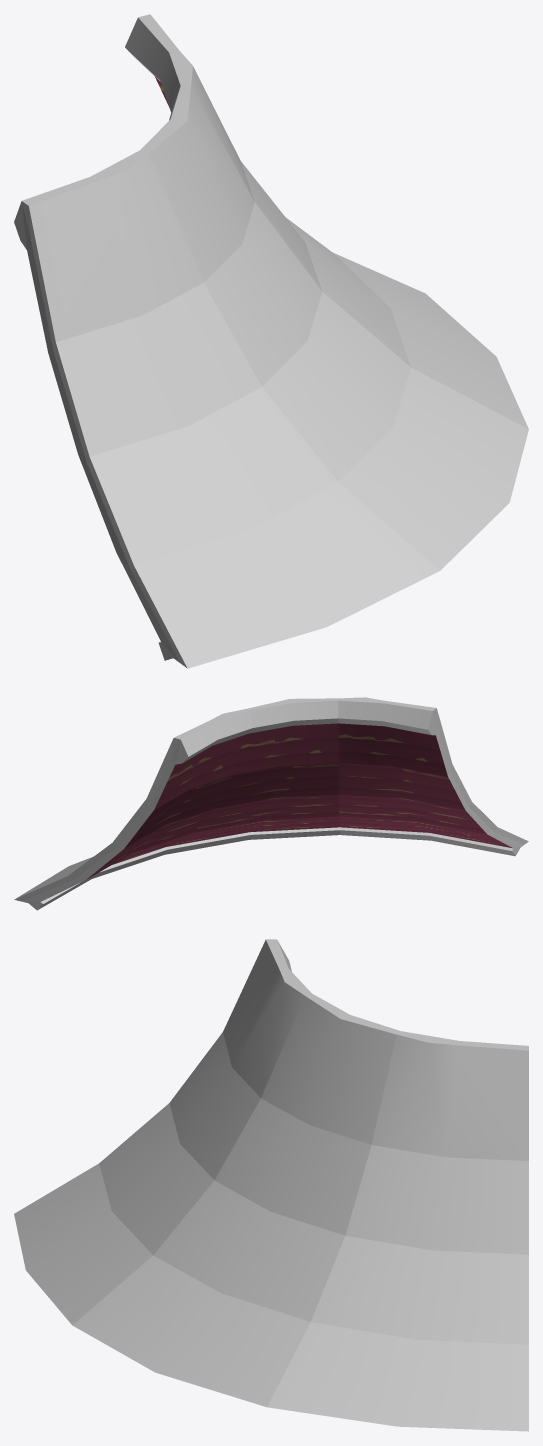
Rendered from SM_Bld_Roof_Concave_Corner_Out_03.fbx.
3 views of the same model, one above another, from view 1: azimuth 30°, elevation 25°; view 2: azimuth 150°, elevation 25°; view 3: azimuth 270°, elevation 25° (orthographic). The views are drawn at different scales.
Parts seen in each view (by area): view 1: SM_Bld_Roof_Concave_Corner_Out_03; view 2: SM_Bld_Roof_Concave_Corner_Out_03; view 3: SM_Bld_Roof_Concave_Corner_Out_03.
Boxes of the visible parts, x1=… form: SM_Bld_Roof_Concave_Corner_Out_03: x1=14, y1=14, x2=528, y2=668; SM_Bld_Roof_Concave_Corner_Out_03: x1=14, y1=697, x2=528, y2=910; SM_Bld_Roof_Concave_Corner_Out_03: x1=14, y1=939, x2=528, y2=1431.
Size of the model in its own units: 511 by 308 by 511.
